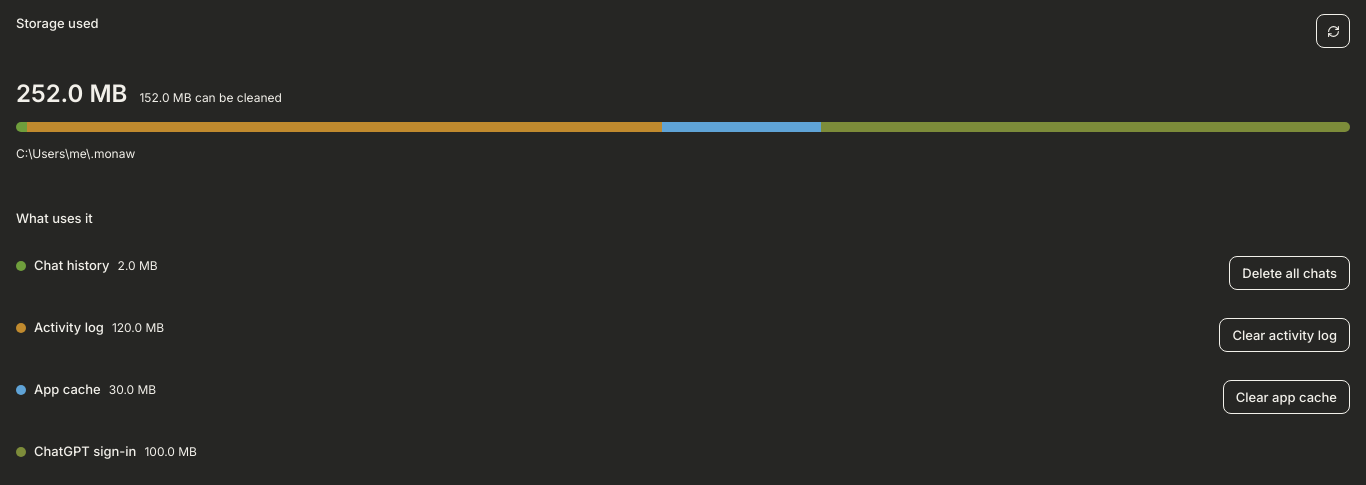
Test: StorageSettings › clears the app cache through the desktop app
Click the button "Clear app cache": (1286, 397) [1223,380,1350,414]
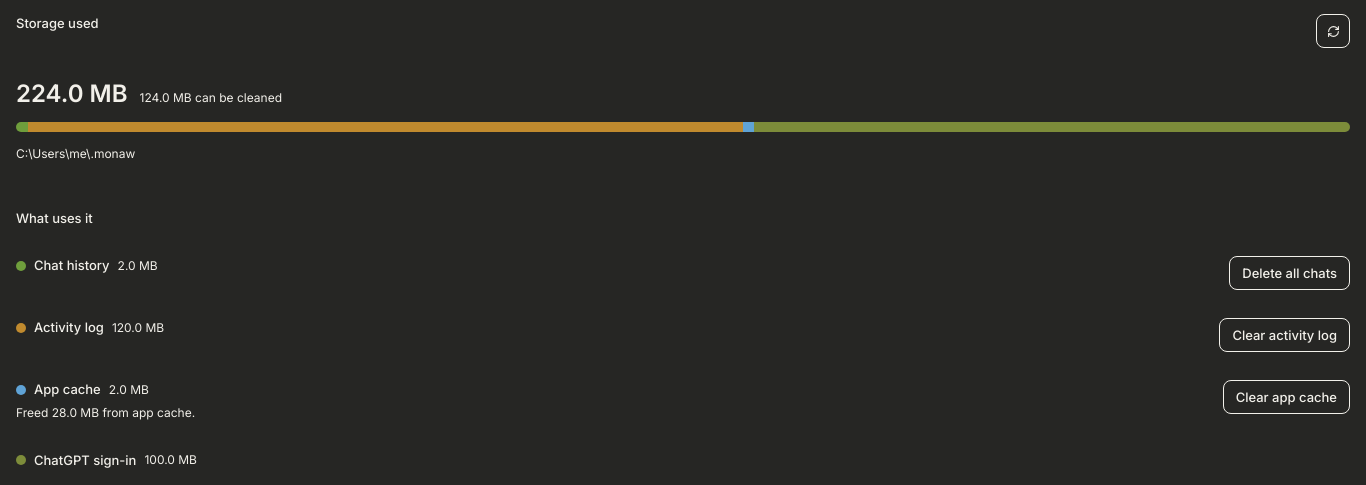
Check: the text "Freed 28.0 MB from app cache." is shown, box [16,403,195,422]
